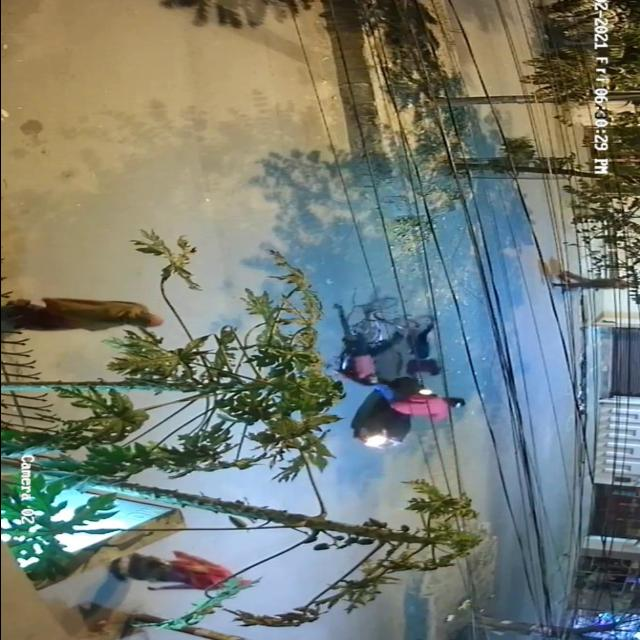accident: (310, 301, 474, 452)
